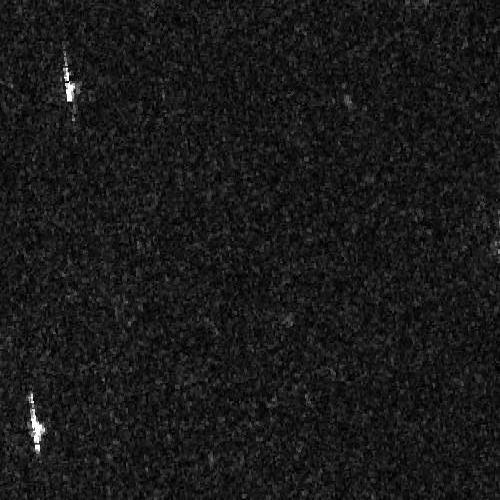ship: (27, 389, 45, 455), (62, 52, 76, 106)
